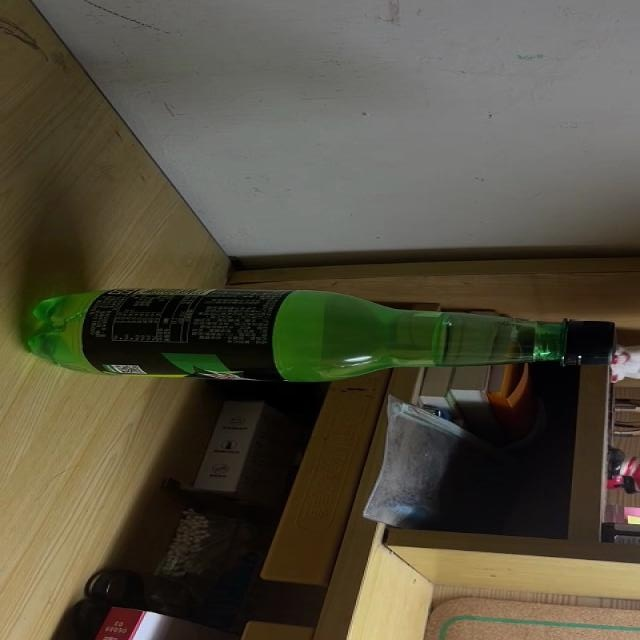Mountain-Dew: (27, 291, 618, 382)
